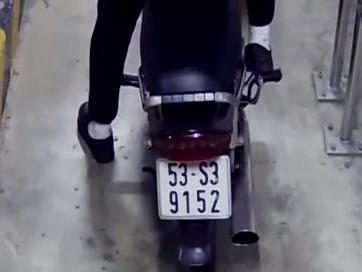num_plate: (157, 158, 233, 218)
